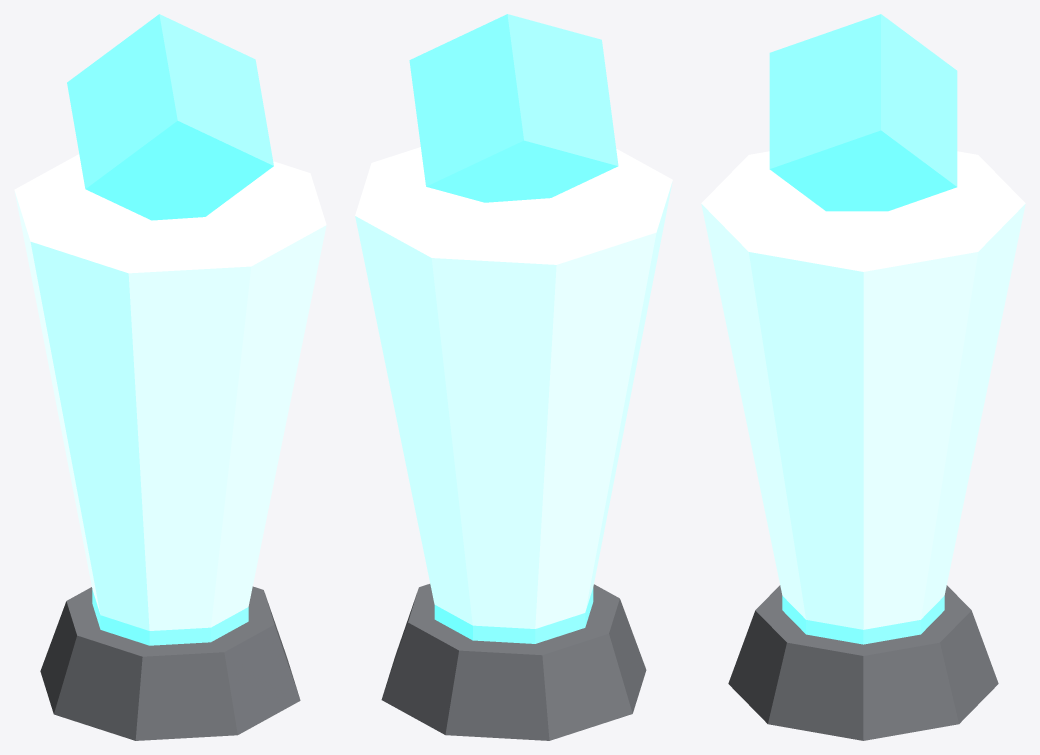
File: SM_Holo_Projector.glb
3 renders of one model, left to right at view 1: azimuth 30°, elevation 25°; view 2: azimuth 150°, elevation 25°; view 3: azimuth 270°, elevation 25°, orthographic.
Visible parts, largest first — view 1: SM_Holo_Projector; view 2: SM_Holo_Projector; view 3: SM_Holo_Projector.
Boxes of the visible parts, x1,y1,x2,y2 form: SM_Holo_Projector: (14,14,326,740); SM_Holo_Projector: (355,14,672,740); SM_Holo_Projector: (701,14,1025,740).
Size of the model in its own units: 0.6 by 1.36 by 0.6.
